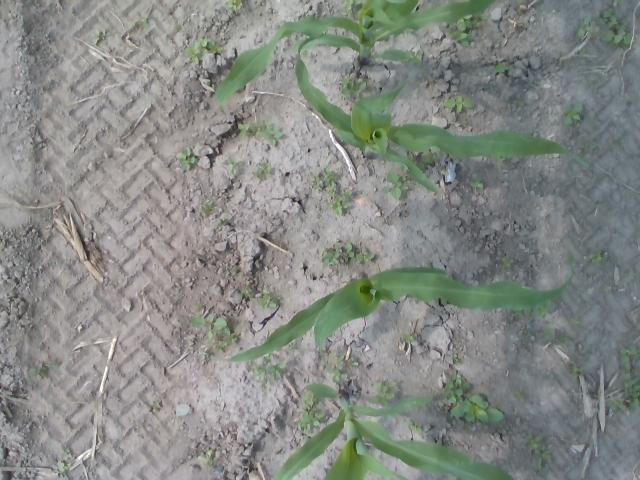Maize: (294, 36, 590, 196), (212, 250, 576, 363), (213, 0, 494, 113), (274, 382, 516, 480)
Weeds: (190, 304, 239, 352), (448, 394, 504, 422), (618, 344, 640, 412), (448, 12, 488, 46), (599, 8, 633, 48), (248, 356, 286, 390), (238, 120, 284, 148), (294, 394, 325, 434), (321, 243, 374, 266), (437, 370, 471, 403), (183, 36, 222, 64), (525, 434, 552, 474), (382, 171, 412, 201), (327, 355, 358, 384), (306, 166, 340, 192), (368, 380, 399, 407), (326, 186, 353, 216), (400, 150, 440, 170), (340, 73, 366, 100), (443, 95, 475, 114), (26, 360, 59, 378), (562, 102, 584, 126), (176, 147, 198, 170), (56, 448, 74, 475), (576, 16, 597, 37), (256, 290, 280, 308), (250, 162, 272, 181), (401, 48, 424, 66), (195, 450, 218, 468), (533, 298, 550, 318), (92, 29, 112, 45), (223, 158, 242, 174), (588, 250, 608, 264), (133, 12, 149, 28), (198, 200, 214, 216), (341, 0, 364, 11), (406, 420, 424, 434), (609, 398, 628, 411), (494, 62, 514, 74), (511, 308, 532, 319), (554, 332, 570, 346), (500, 256, 514, 270), (542, 326, 556, 340), (569, 364, 584, 377), (240, 282, 252, 297), (468, 177, 484, 188), (226, 0, 243, 10), (401, 333, 416, 344), (513, 390, 526, 402), (216, 217, 229, 228), (198, 350, 210, 360), (584, 144, 596, 154), (232, 266, 244, 276), (570, 316, 580, 326), (521, 331, 533, 339), (600, 284, 610, 293), (451, 357, 461, 364), (518, 101, 525, 108)
